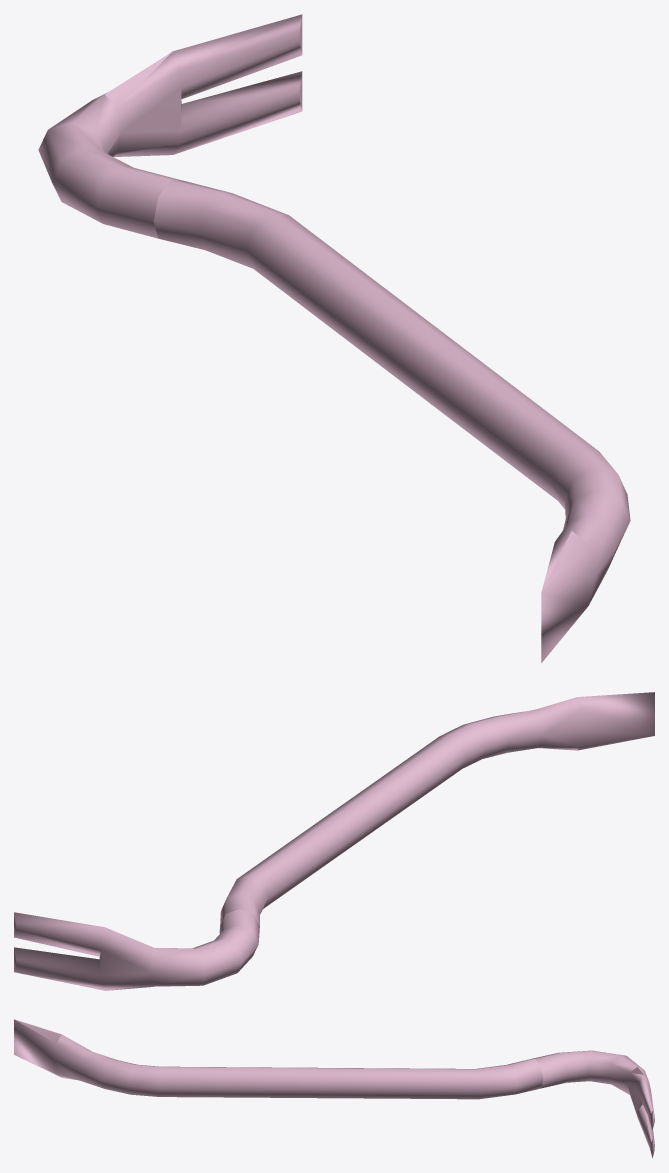
The model's file is crowbar1.fbx.
3 renders of one model, top to bottom at view 1: azimuth 30°, elevation 25°; view 2: azimuth 150°, elevation 25°; view 3: azimuth 270°, elevation 25°, orthographic. The views are drawn at different scales.
Visible parts, largest first — view 1: mex_props_crow-bar; view 2: mex_props_crow-bar; view 3: mex_props_crow-bar.
Part boxes in pixels (box(x1,y1,x2,y2)): mex_props_crow-bar: box(38, 14, 630, 662); mex_props_crow-bar: box(14, 692, 654, 990); mex_props_crow-bar: box(14, 1019, 654, 1157).
Size of the model in its own units: 42.7 by 10.55 by 119.
